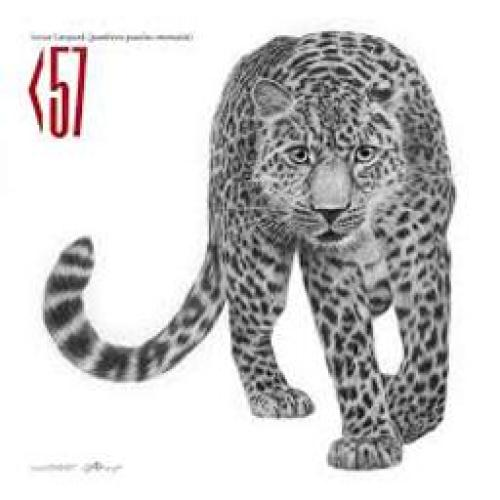amur_leopard-endangered: (44, 29, 456, 469)
